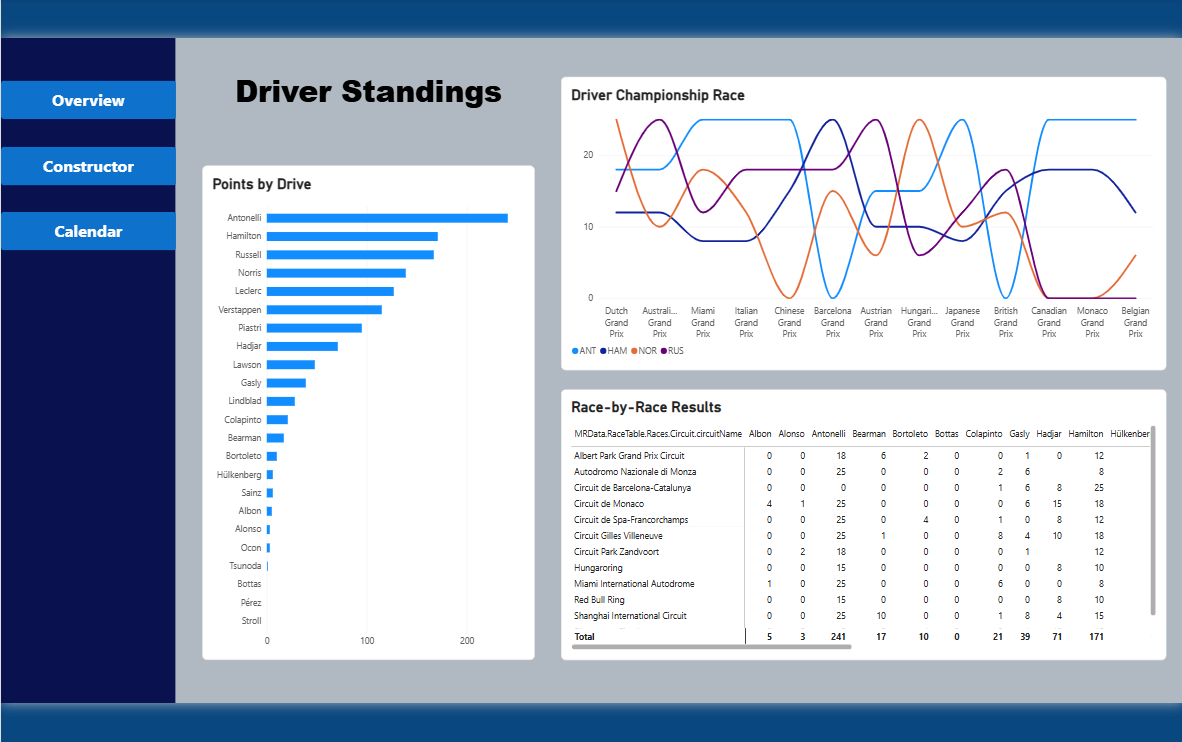

The page's visual inventory and layout, read from the dashboard file:
{"tool":"powerbi","page":{"name":"Drivers","canvas":[1920,1080],"ordinal":1},"visuals":[{"type":"clusteredBarChart","title":"Points by Drive","fields":{"Category":["Append1.MRData.RaceTable.Races.Results.Driver.familyName"],"Y":["Sum(Append1.MRData.RaceTable.Races.Results.points)"]},"box":[326.7,206.7,540,803.3],"z":0},{"type":"shape","box":[0,0,283.3,1080],"z":1000},{"type":"textbox","box":[326.7,50,540,100],"z":2000},{"type":"pivotTable","title":"Race-by-Race Results","fields":{"Columns":["Append1.MRData.RaceTable.Races.Results.Driver.familyName"],"Rows":["Append1.MRData.RaceTable.Races.Circuit.circuitName"],"Values":["Sum(Append1.MRData.RaceTable.Races.Results.points)"]},"box":[910,570,983.3,440],"z":3000},{"type":"lineChart","title":"Driver Championship Race","fields":{"Category":["Append1.MRData.RaceTable.Races.raceName"],"Series":["Append1.MRData.RaceTable.Races.Results.Driver.code"],"Y":["Append1.Cumulative Points"]},"box":[910,63.3,983.3,476.7],"z":4000},{"type":"textbox","box":[100,100,300,300],"z":5000},{"type":"actionButton","box":[0,69,284.2,62.9],"z":6000},{"type":"actionButton","box":[0,176.6,284.2,62.9],"z":7000},{"type":"actionButton","title":"Calendar","box":[0,282.2,284.2,62.9],"z":7001}]}

Visuals, with their boxes on the page's 1920x1080 design canvas (x1, y1, x2, y2). These are canvas units, not pixel positions in the 1182x742 screenshot, which may show the page scaled, cropped or inside an application window:
"Points by Drive" clusteredBarChart: region(327, 207, 867, 1010)
shape: region(0, 0, 283, 1080)
textbox: region(327, 50, 867, 150)
"Race-by-Race Results" pivotTable: region(910, 570, 1893, 1010)
"Driver Championship Race" lineChart: region(910, 63, 1893, 540)
textbox: region(100, 100, 400, 400)
actionButton: region(0, 69, 284, 132)
actionButton: region(0, 177, 284, 240)
"Calendar" actionButton: region(0, 282, 284, 345)
